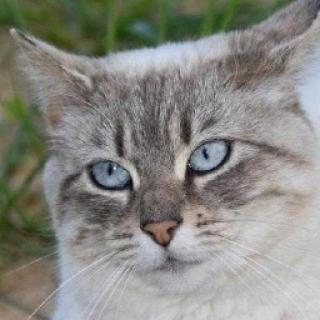cat: (8, 17, 310, 299)
nose: (134, 200, 194, 253)
